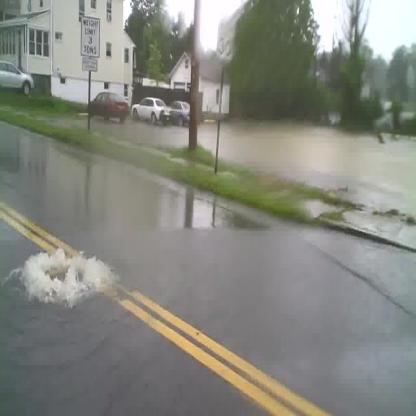drainage overflow-repair-: (20, 239, 106, 310)
